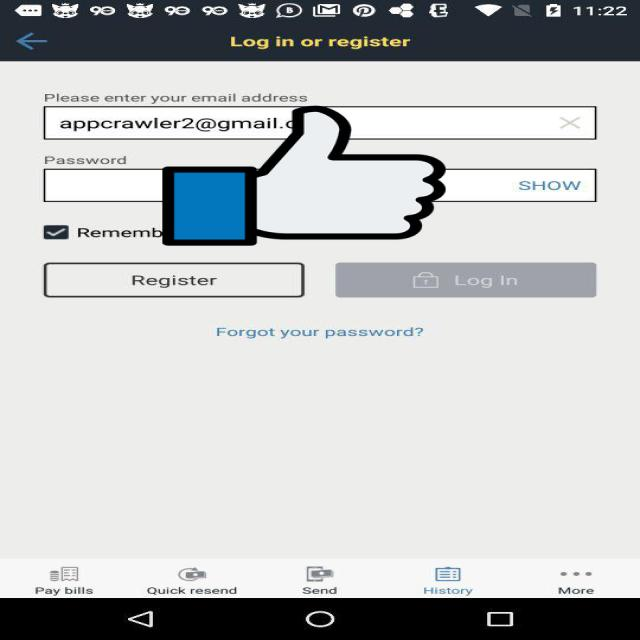privacy zuckering: (162, 102, 446, 248)
